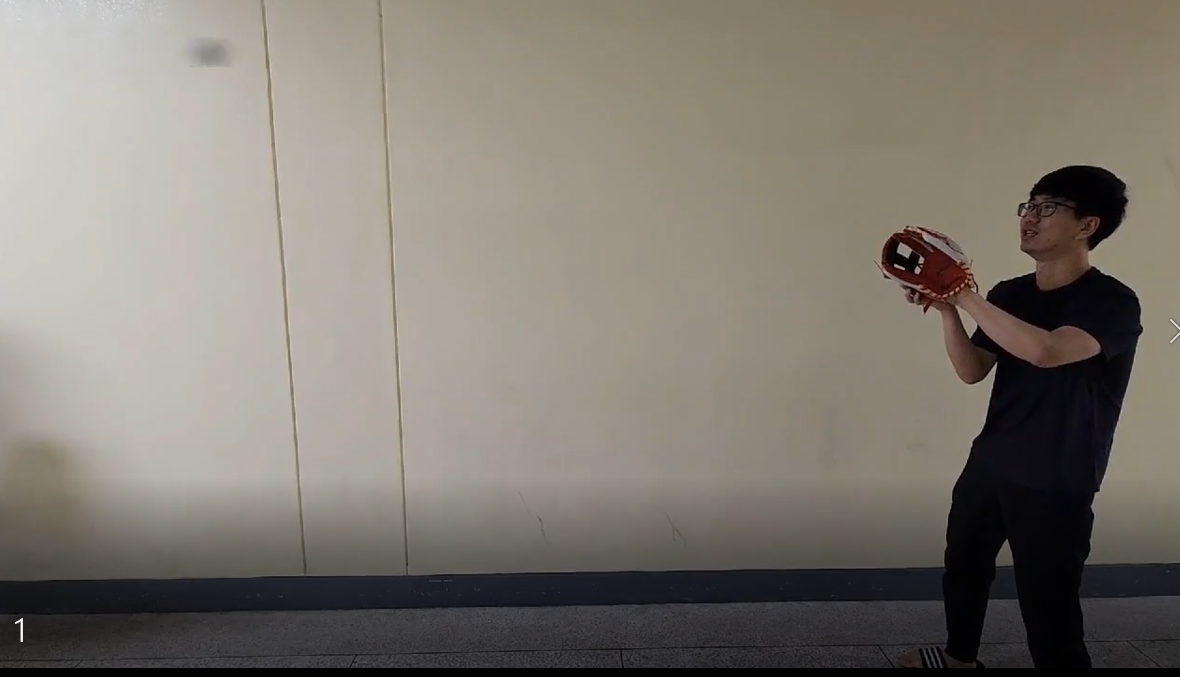ball: (184, 30, 233, 68)
